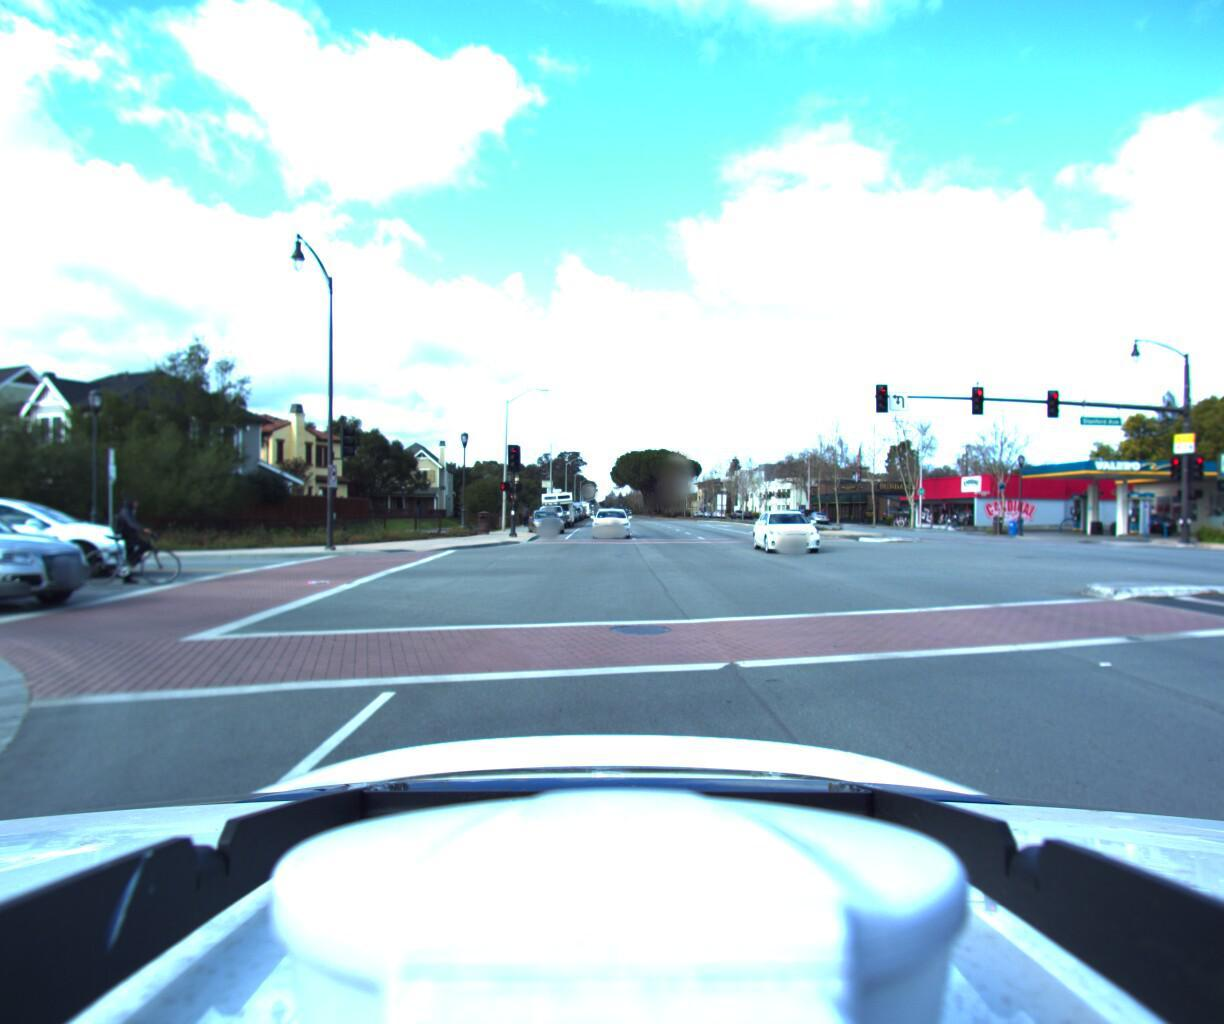bicycle: (67, 492, 187, 587)
car: (0, 484, 156, 585), (0, 488, 110, 611), (757, 504, 837, 552), (588, 504, 629, 537), (519, 508, 564, 534)
other_vehicle: (536, 486, 571, 528)
